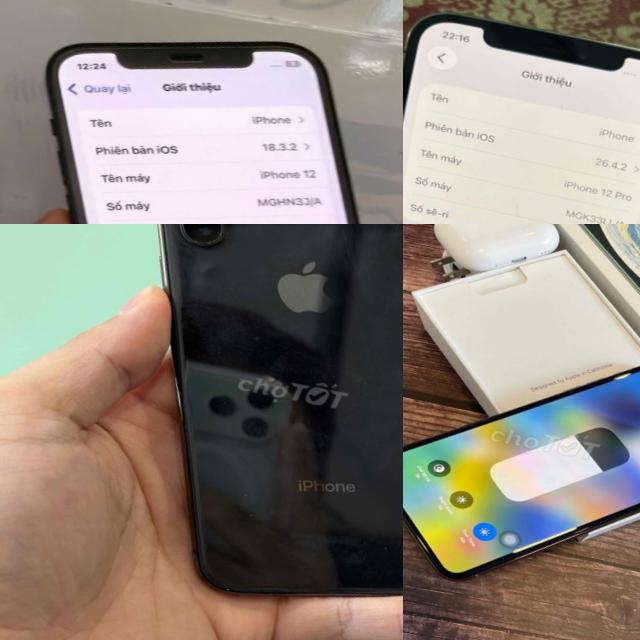gen_12_13: (0, 0, 403, 224), (403, 0, 640, 224)
gen_x_xs: (157, 224, 403, 593), (403, 315, 640, 633)
scratch: (207, 474, 280, 540), (352, 520, 403, 568)
